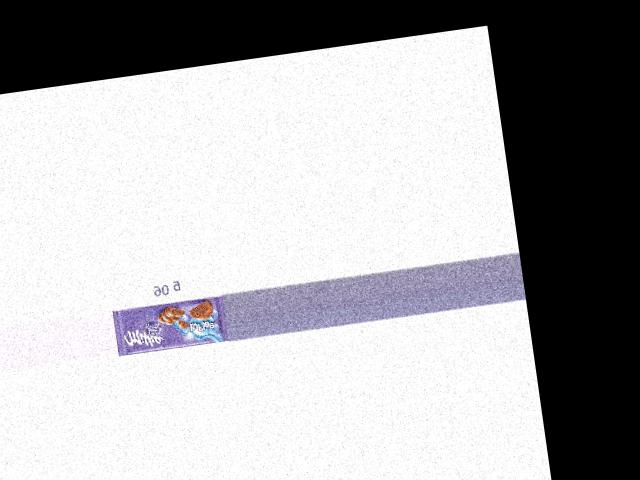chocolate: (114, 295, 229, 356)
